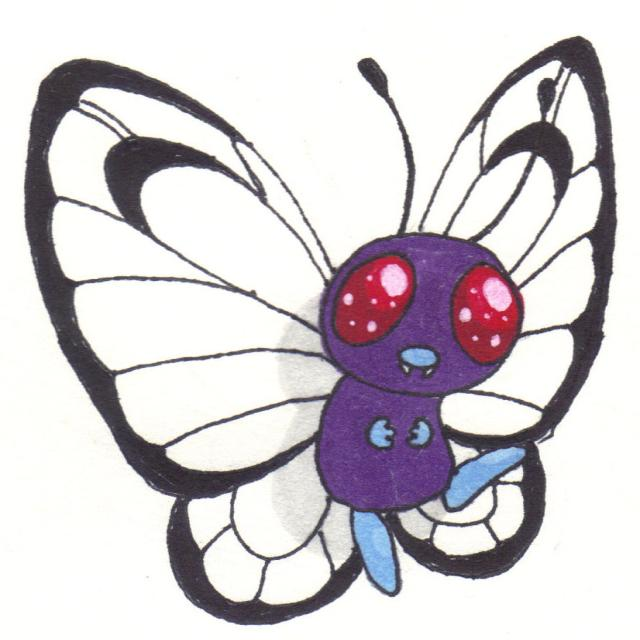Butterfree: (95, 121, 580, 600)
